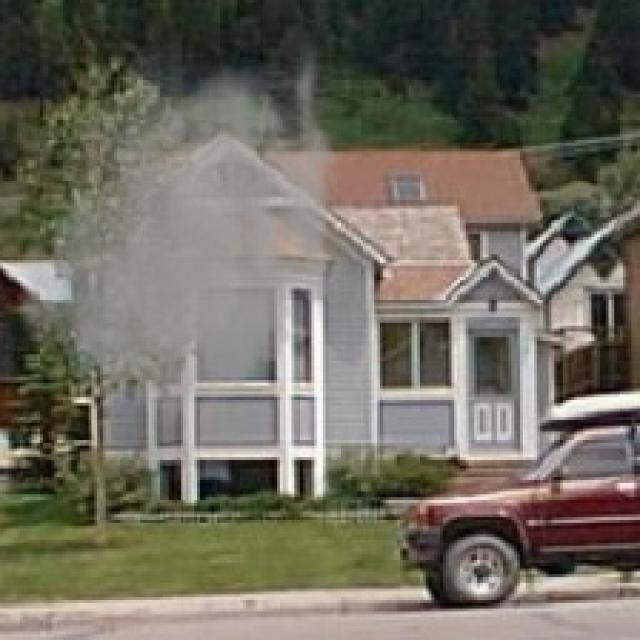Smoke: (8, 31, 354, 440)
